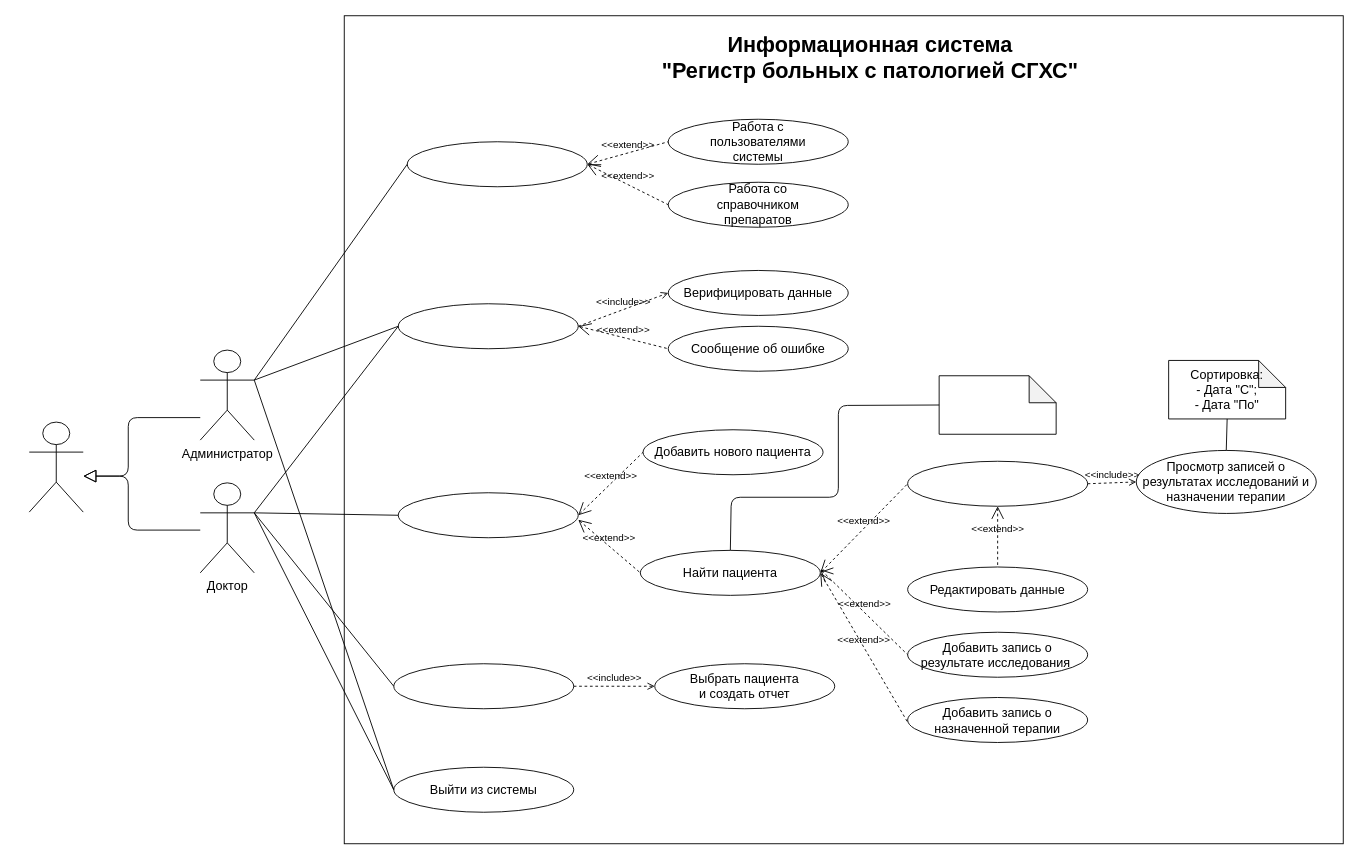
This 1359x860 diagram has some shape labels left out. Each missing label, with the box of its shape:
Авторизоваться: (397, 303, 578, 349)
Администрирование системы: (406, 141, 587, 187)
Поиск по ФИО пациента: (938, 375, 1056, 434)
Пользователь: (28, 421, 83, 512)
Просмотр ИБ Пациента: (907, 460, 1088, 506)
Работать с данными пациентов: (397, 492, 578, 538)
Работать с отчетами: (393, 663, 574, 709)
